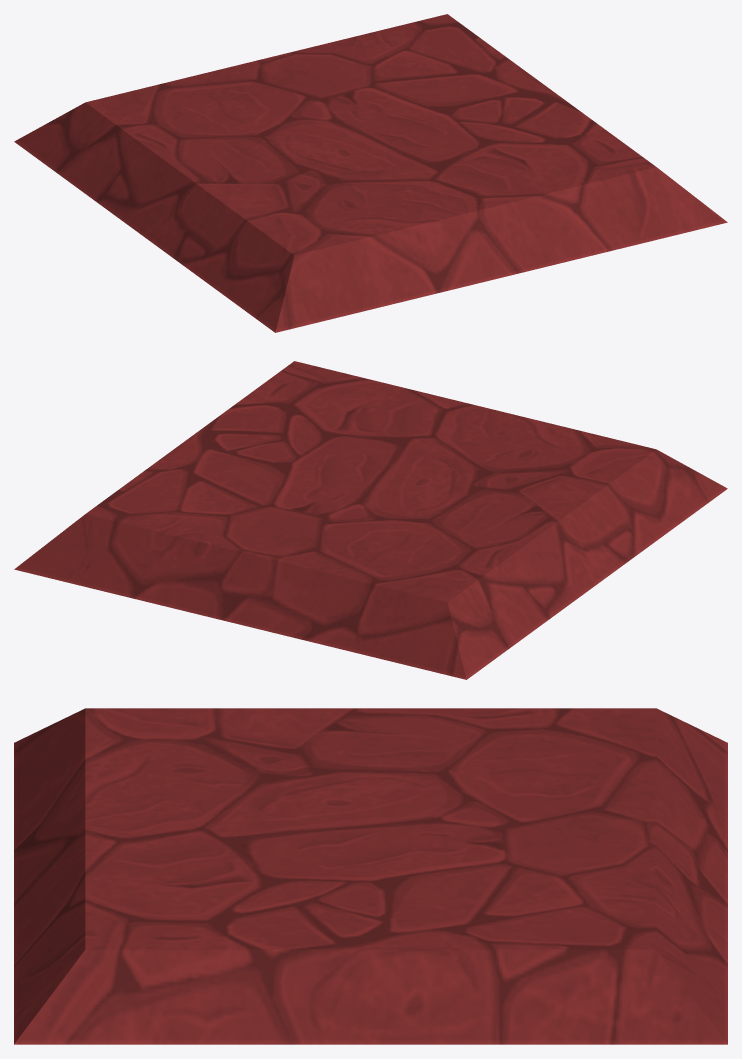
The model's file is RedTile.fbx.
3 renders of one model, top to bottom at view 1: azimuth 30°, elevation 25°; view 2: azimuth 150°, elevation 25°; view 3: azimuth 270°, elevation 25°, orthographic. The views are drawn at different scales.
Visible parts, largest first — view 1: Cube; view 2: Cube; view 3: Cube.
Boxes of the visible parts, x1,y1,x2,y2 form: Cube: (14,14,727,332); Cube: (14,361,727,679); Cube: (14,708,727,1044).
Size of the model in its own units: 100 by 10 by 100.
1 material, 1 textured.
